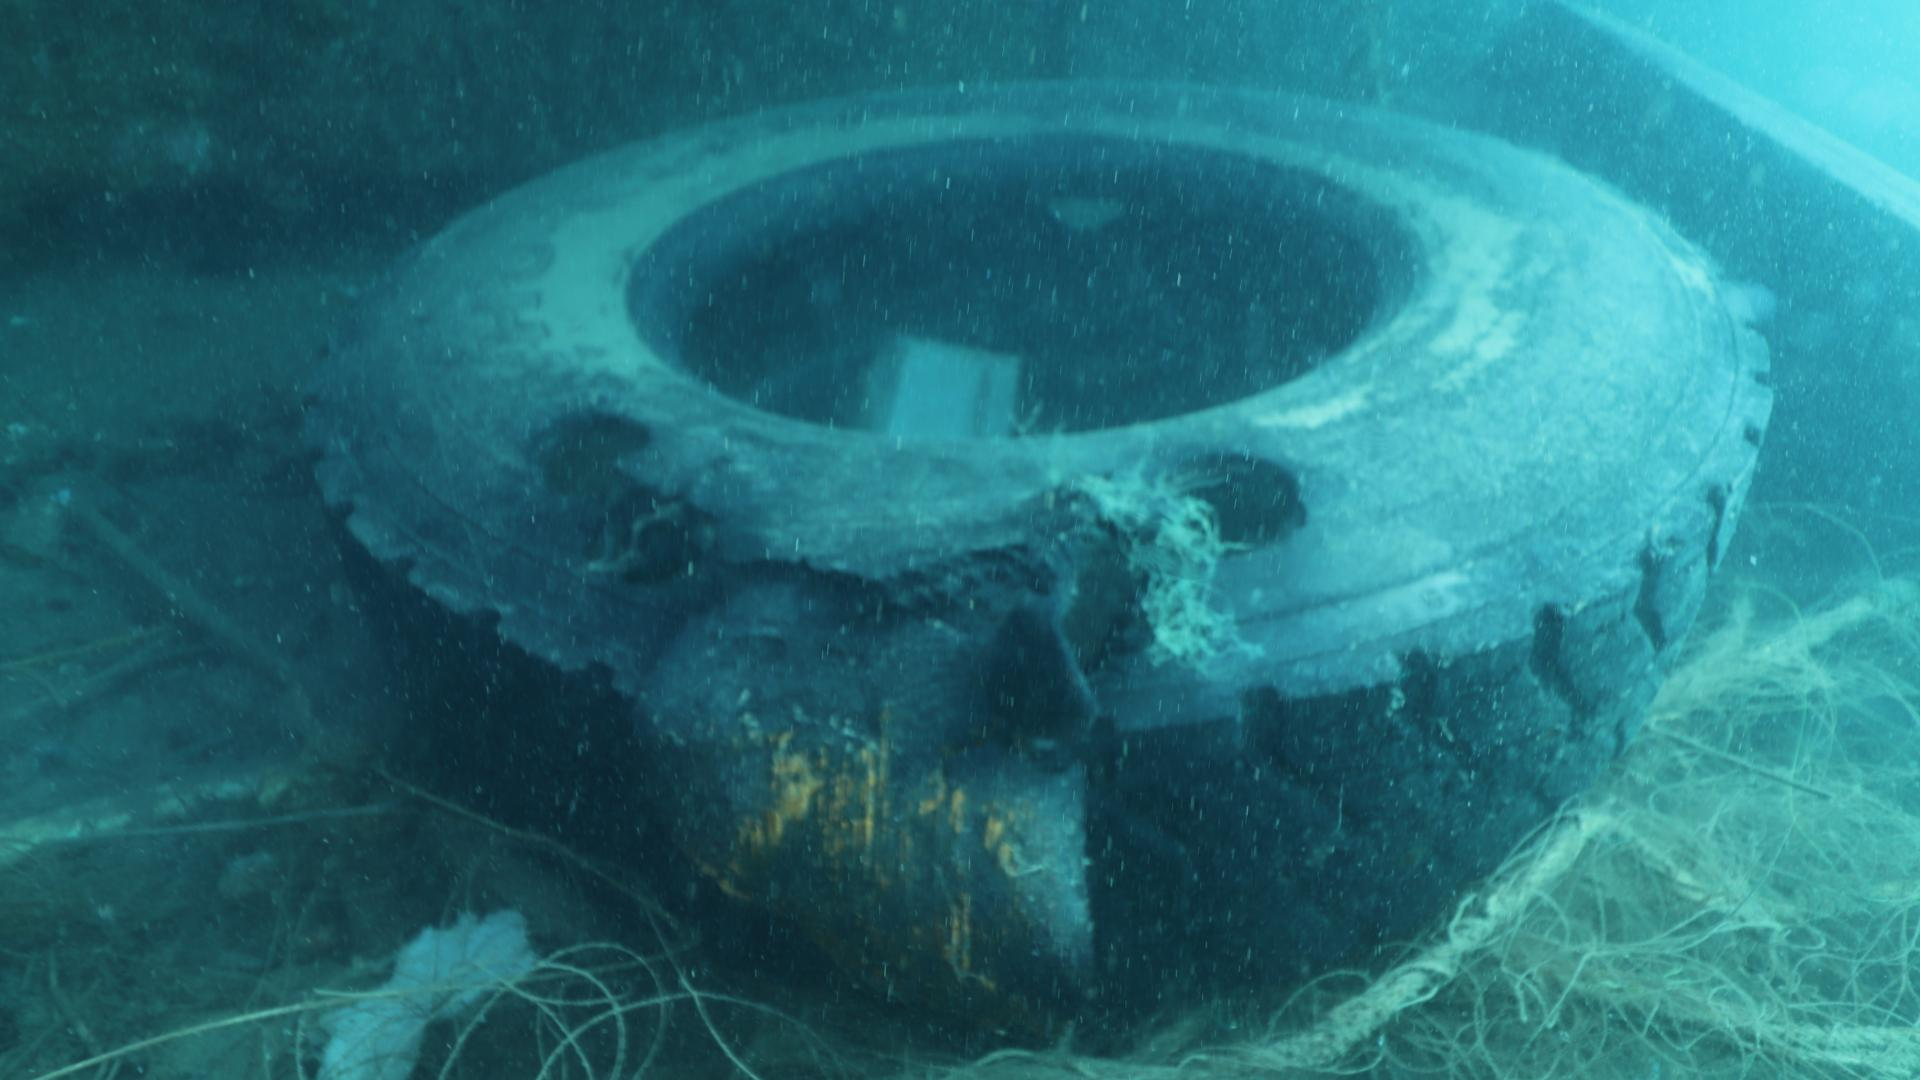tire: (295, 75, 1787, 1036)
